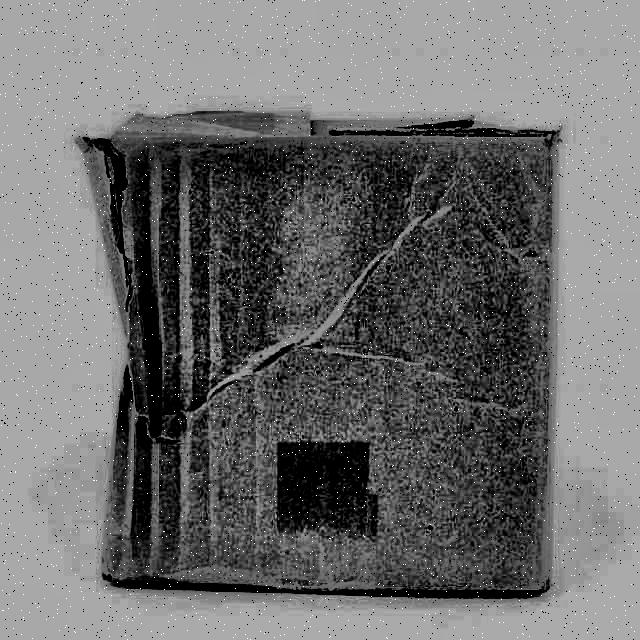box: (65, 101, 580, 605)
hole: (83, 138, 137, 309), (120, 362, 154, 445)
